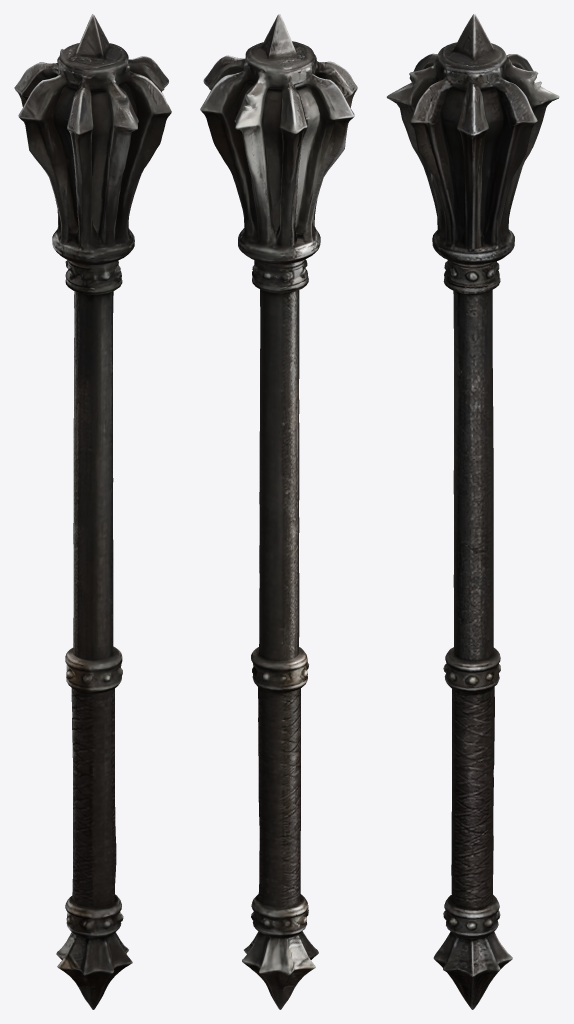
File: great_flanged_mace.glb
The picture shows the model from 3 angles, left to right: view 1: azimuth 30°, elevation 25°; view 2: azimuth 150°, elevation 25°; view 3: azimuth 270°, elevation 25°; orthographic projection.
Parts seen in each view (by area): view 1: great_flanged_mace; view 2: great_flanged_mace; view 3: great_flanged_mace.
Boxes of the visible parts, x1,y1,x2,y2 form: great_flanged_mace: (14, 14, 171, 1009); great_flanged_mace: (200, 14, 357, 1009); great_flanged_mace: (386, 14, 559, 1009).
Size of the model in its own units: 0.2115 by 1.34 by 0.2115.
1 material, 1 textured.
